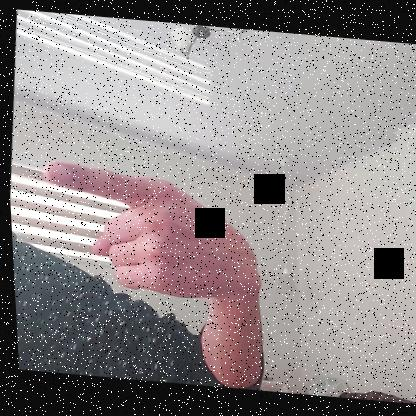G: (34, 160, 266, 304)
